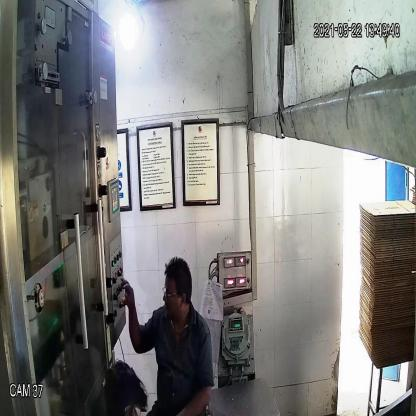goggles: (161, 284, 186, 304)
